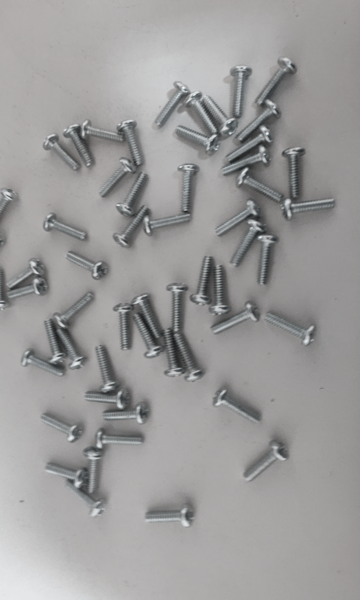shortscrew: (242, 440, 291, 483), (256, 56, 298, 105), (237, 99, 282, 143), (212, 387, 262, 425), (225, 125, 274, 163), (265, 312, 318, 347), (209, 301, 261, 335), (235, 167, 284, 203), (214, 200, 261, 237), (230, 219, 266, 267), (155, 81, 190, 128), (64, 480, 107, 518), (53, 292, 96, 330), (221, 144, 270, 177), (98, 158, 137, 199), (113, 205, 150, 248), (116, 171, 149, 218), (174, 332, 204, 383), (41, 133, 81, 171), (134, 312, 166, 359), (133, 293, 164, 339), (184, 91, 217, 134), (56, 327, 88, 371), (203, 96, 238, 136), (117, 119, 146, 167), (174, 126, 222, 155), (40, 412, 83, 443), (20, 349, 65, 378), (189, 255, 214, 307), (44, 212, 88, 241), (64, 125, 93, 169), (6, 258, 47, 289), (65, 252, 108, 281), (143, 212, 191, 237), (230, 66, 253, 118), (283, 147, 306, 199), (283, 199, 336, 221), (102, 402, 150, 426), (45, 463, 89, 489), (166, 283, 189, 332), (209, 265, 231, 316), (96, 345, 119, 393), (44, 319, 68, 365), (145, 505, 195, 527), (178, 164, 200, 212), (257, 235, 278, 285), (113, 303, 134, 352), (81, 119, 125, 142), (165, 328, 185, 378), (96, 429, 143, 450), (7, 277, 49, 300), (83, 445, 102, 494), (85, 390, 131, 410), (0, 189, 18, 231), (0, 267, 11, 311), (0, 217, 6, 248)
